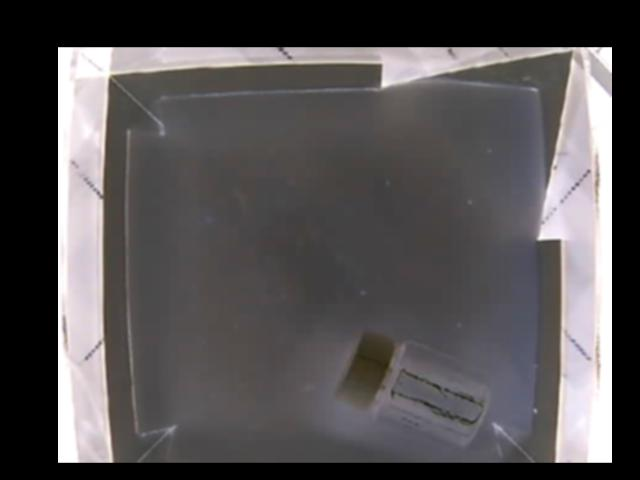Bottle: (333, 331, 488, 442)
